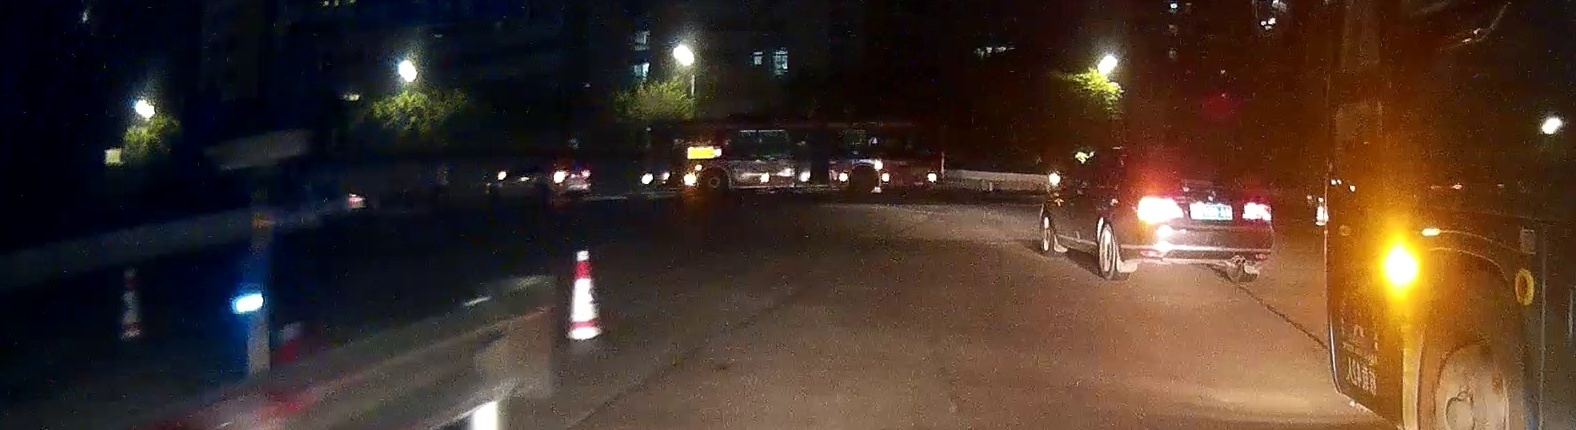L_light: (1136, 194, 1187, 221)
R_light: (1240, 197, 1273, 223)
T_light: (1188, 153, 1212, 160)
night-left: (1110, 142, 1274, 283)
